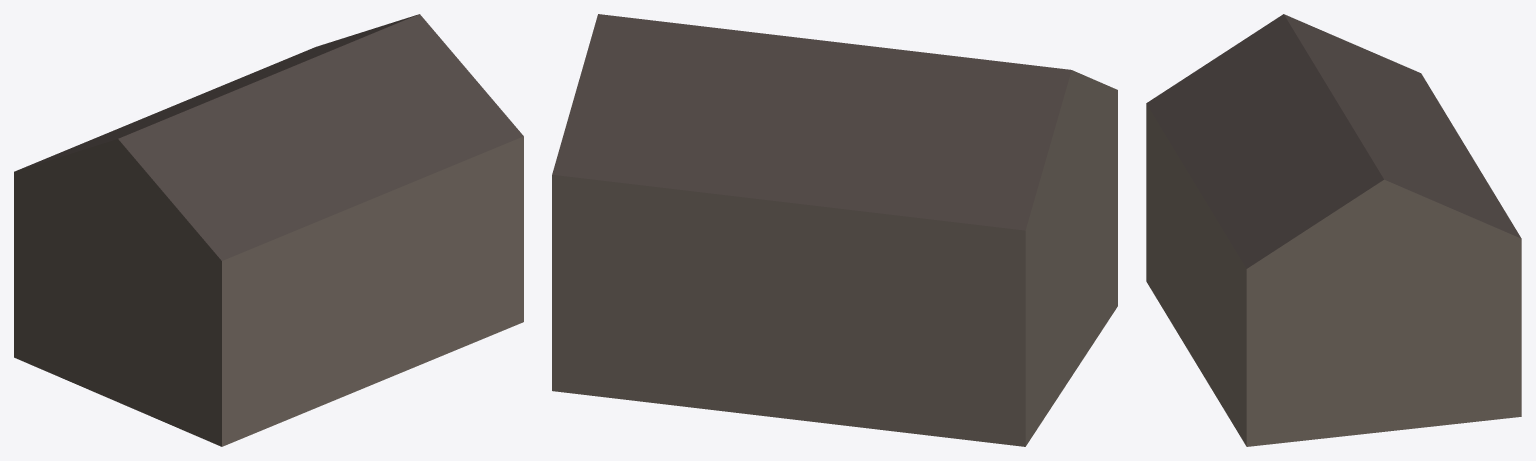
3 renders of one model, left to right at view 1: azimuth 30°, elevation 25°; view 2: azimuth 150°, elevation 25°; view 3: azimuth 270°, elevation 25°, orthographic. The views are drawn at different scales.
Visible parts, largest first — view 1: HP-w299010077; view 2: HP-w299010077; view 3: HP-w299010077.
Part boxes in pixels (x1,y1,x2,y2): HP-w299010077: (14,14,523,446); HP-w299010077: (552,14,1117,446); HP-w299010077: (1146,14,1521,446).
Size of the model in its own units: 14.15 by 8.51 by 11.48.
